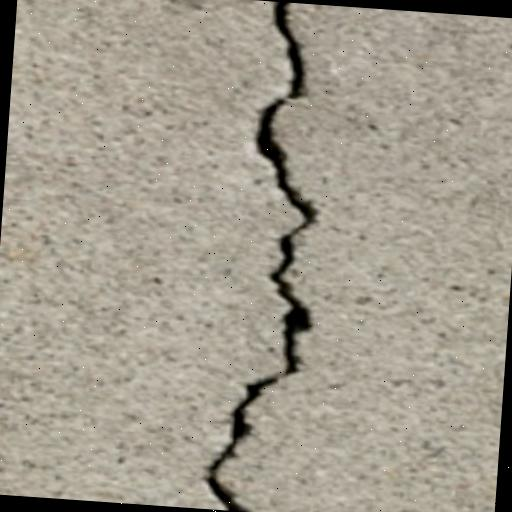spalling: (193, 6, 326, 512)
